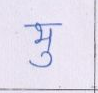u_matra: (30, 51, 55, 68)
